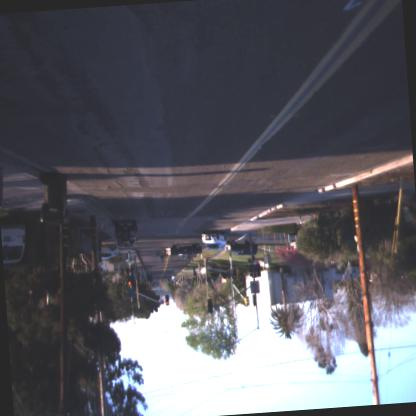trafficlight: (126, 269, 132, 288), (232, 268, 238, 280), (165, 294, 170, 306)
